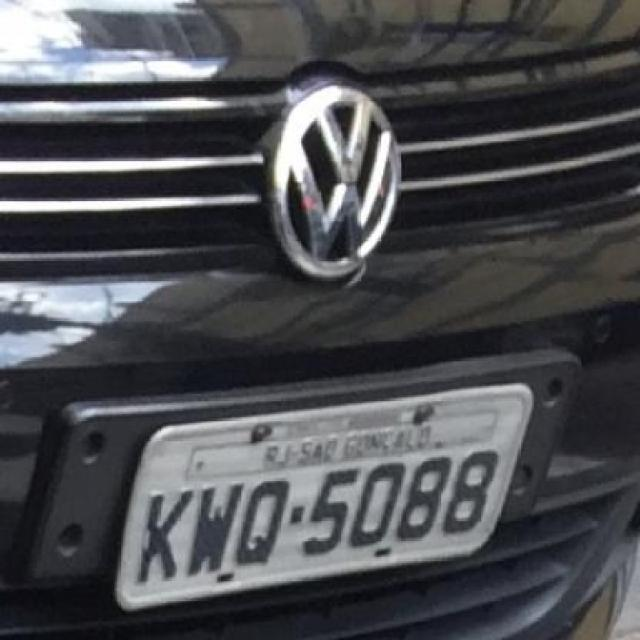old_plate: (106, 376, 540, 617)
